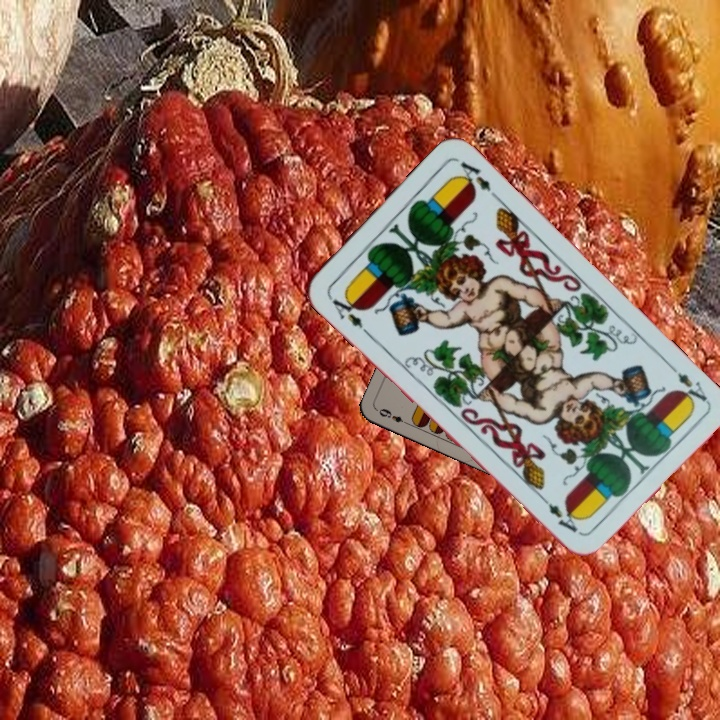E9: (375, 404, 412, 428)
EA: (663, 359, 710, 409), (323, 289, 371, 337)
